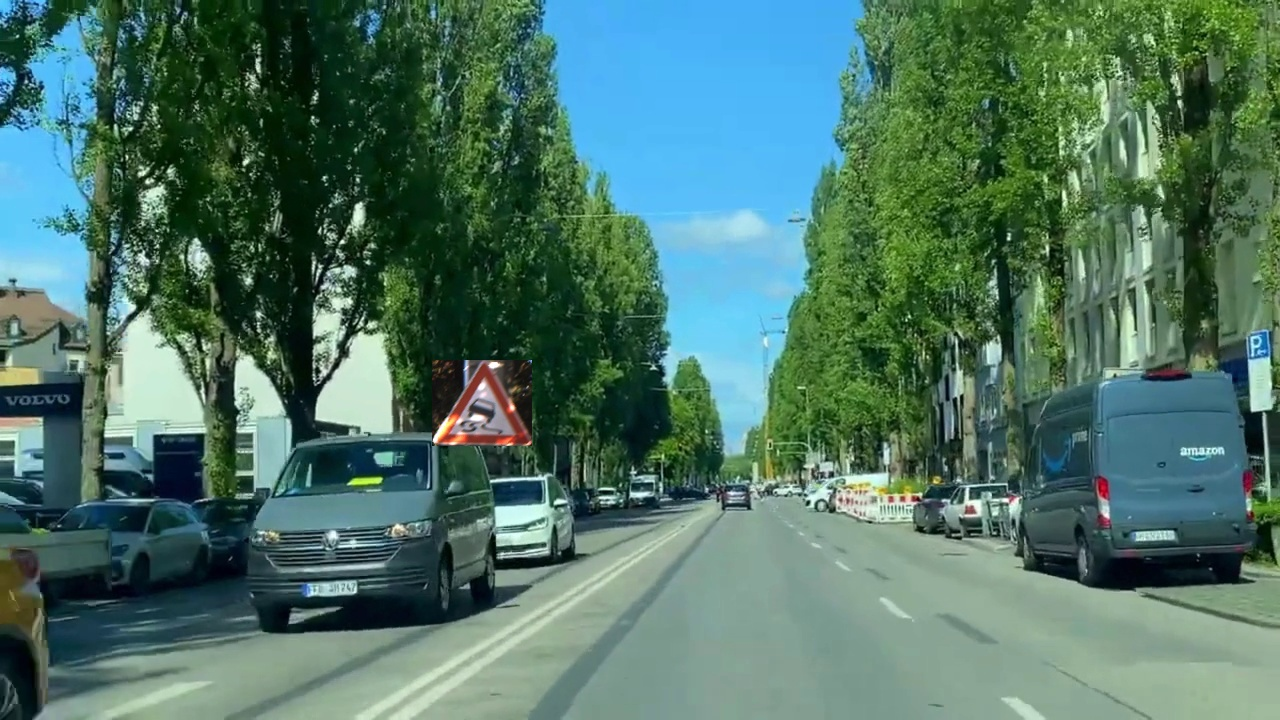Slippery: (432, 360, 532, 446)
